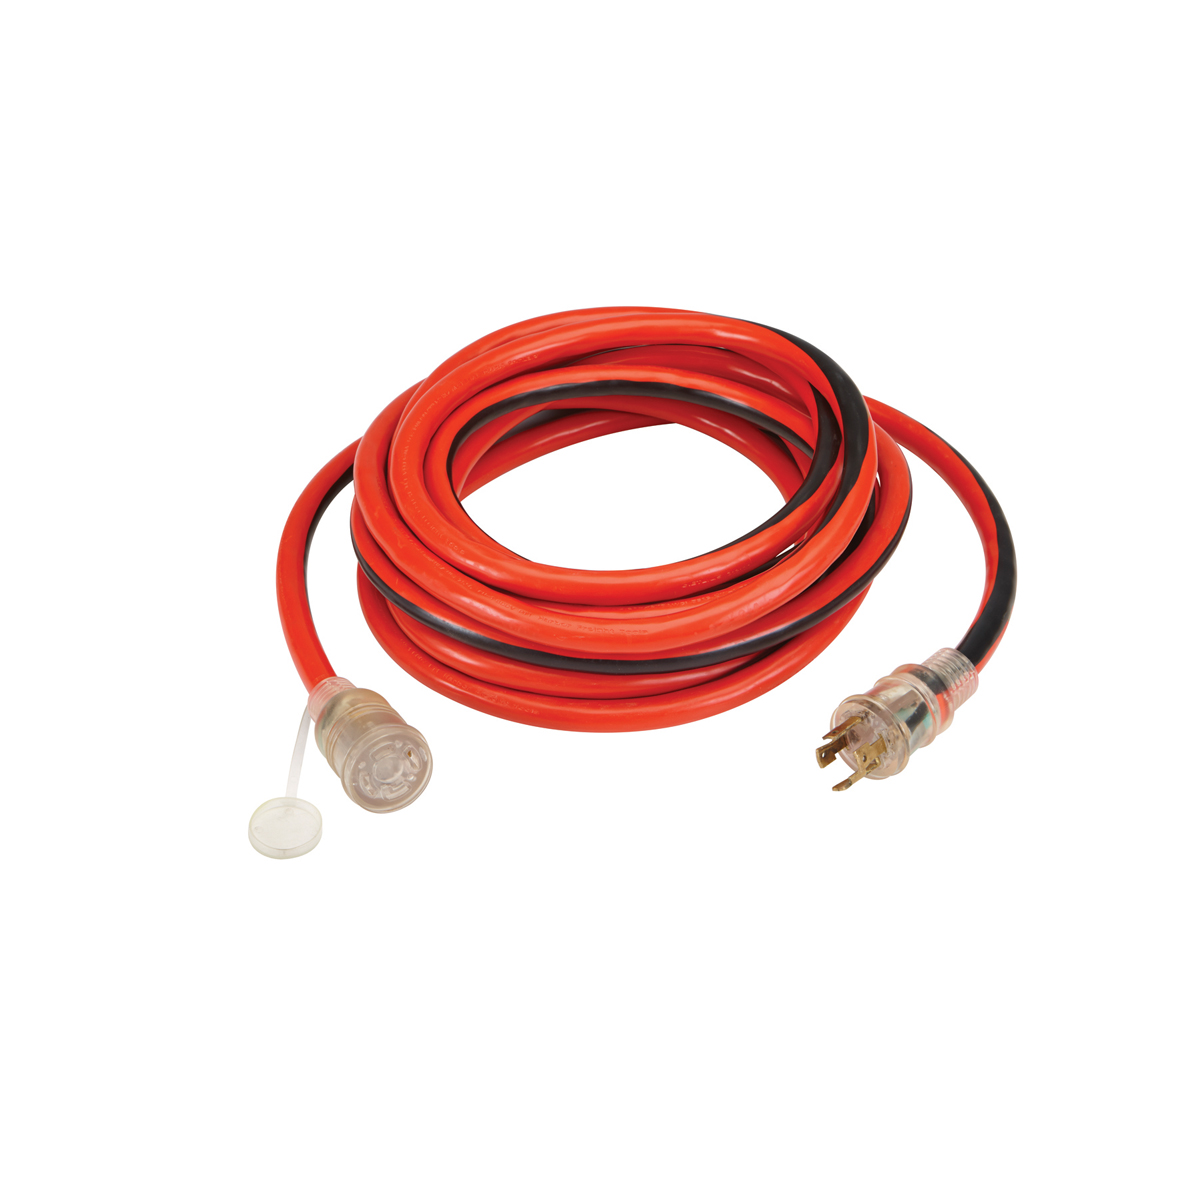Nonrec_Tangler: (165, 227, 1073, 904)
